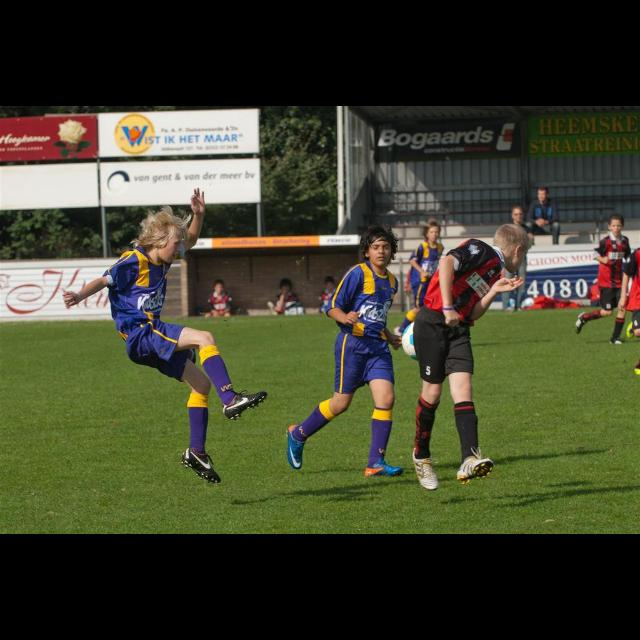Football: (400, 320, 414, 356)
